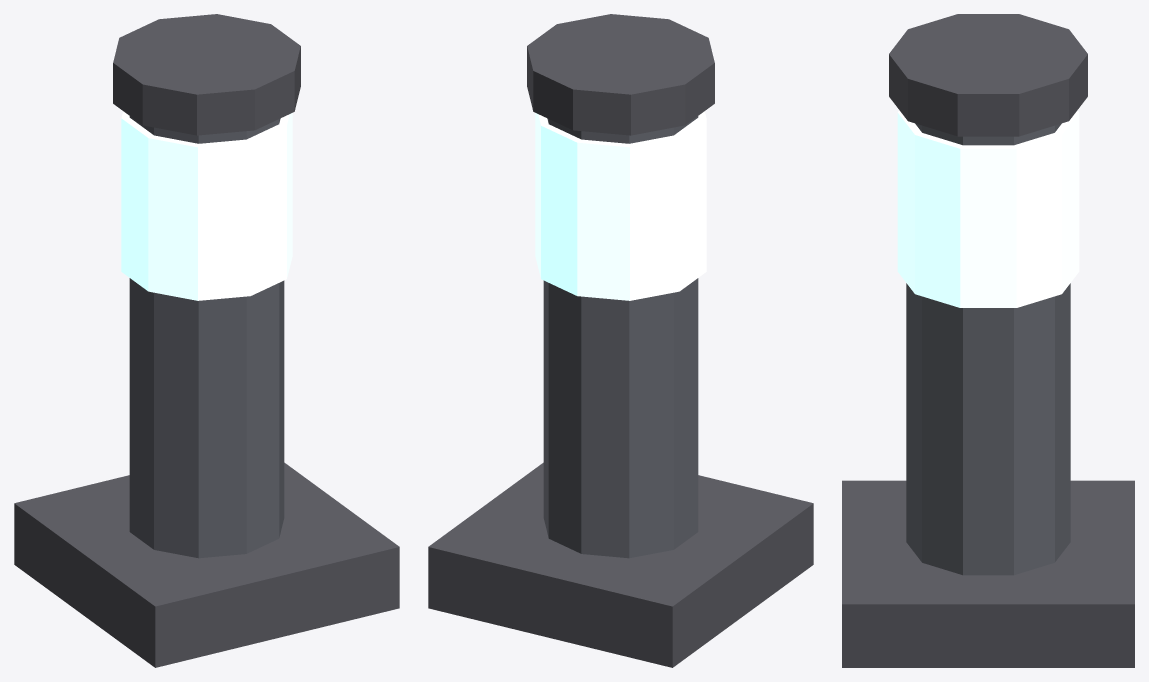
File: bt-hw-blamp.glb
The picture shows the model from 3 angles, left to right: view 1: azimuth 30°, elevation 25°; view 2: azimuth 150°, elevation 25°; view 3: azimuth 270°, elevation 25°; orthographic projection. The views are drawn at different scales.
Parts seen in each view (by area): view 1: bt-hw-blamp_base, bt-hw-blamp_post, bt-hw-blamp_band, bt-hw-blamp_cap; view 2: bt-hw-blamp_base, bt-hw-blamp_post, bt-hw-blamp_band, bt-hw-blamp_cap; view 3: bt-hw-blamp_post, bt-hw-blamp_base, bt-hw-blamp_band, bt-hw-blamp_cap.
Boxes of the visible parts, left/top/right/bottom form: bt-hw-blamp_base: left=14, top=462, right=399, bottom=667; bt-hw-blamp_post: left=129, top=116, right=284, bottom=558; bt-hw-blamp_band: left=121, top=111, right=292, bottom=300; bt-hw-blamp_cap: left=113, top=14, right=300, bottom=135; bt-hw-blamp_base: left=428, top=462, right=813, bottom=667; bt-hw-blamp_post: left=543, top=116, right=698, bottom=558; bt-hw-blamp_band: left=535, top=111, right=706, bottom=300; bt-hw-blamp_cap: left=527, top=14, right=714, bottom=135; bt-hw-blamp_post: left=906, top=123, right=1070, bottom=575; bt-hw-blamp_base: left=842, top=480, right=1134, bottom=667; bt-hw-blamp_band: left=897, top=110, right=1079, bottom=307; bt-hw-blamp_cap: left=889, top=14, right=1087, bottom=136.
Bounding box in the file's own units: 0.5 × 1.04 × 0.5.
